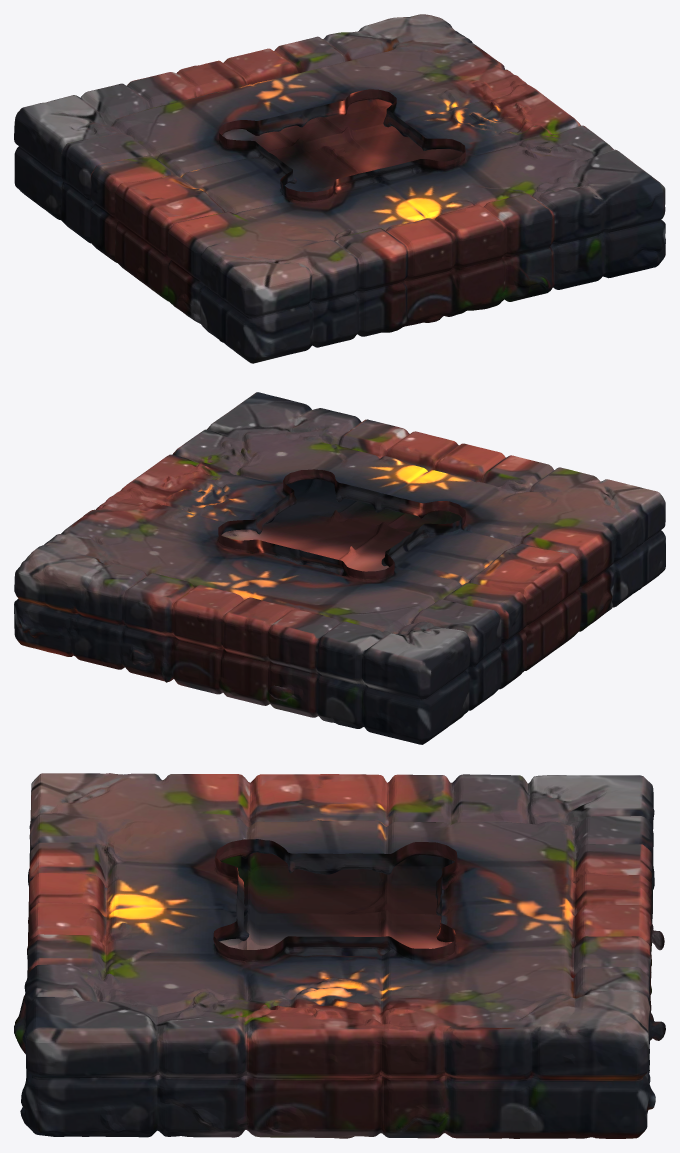
Rendered from brazier_plate.glb.
3 renders of one model, top to bottom at view 1: azimuth 30°, elevation 25°; view 2: azimuth 150°, elevation 25°; view 3: azimuth 270°, elevation 25°, orthographic. The views are drawn at different scales.
Visible parts, largest first — view 1: brazier_plate; view 2: brazier_plate; view 3: brazier_plate.
Part boxes in pixels (<box>): brazier_plate: <box>14,14,665,363</box>; brazier_plate: <box>14,392,665,744</box>; brazier_plate: <box>14,773,665,1138</box>.
Bounding box in the file's own units: 1.95 × 0.4023 × 2.
1 material, 1 textured.
